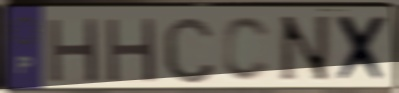C: (160, 13, 218, 86), (220, 14, 273, 85)
H: (104, 15, 159, 85), (46, 15, 101, 85)
N: (276, 13, 334, 85)
X: (334, 13, 390, 86)
